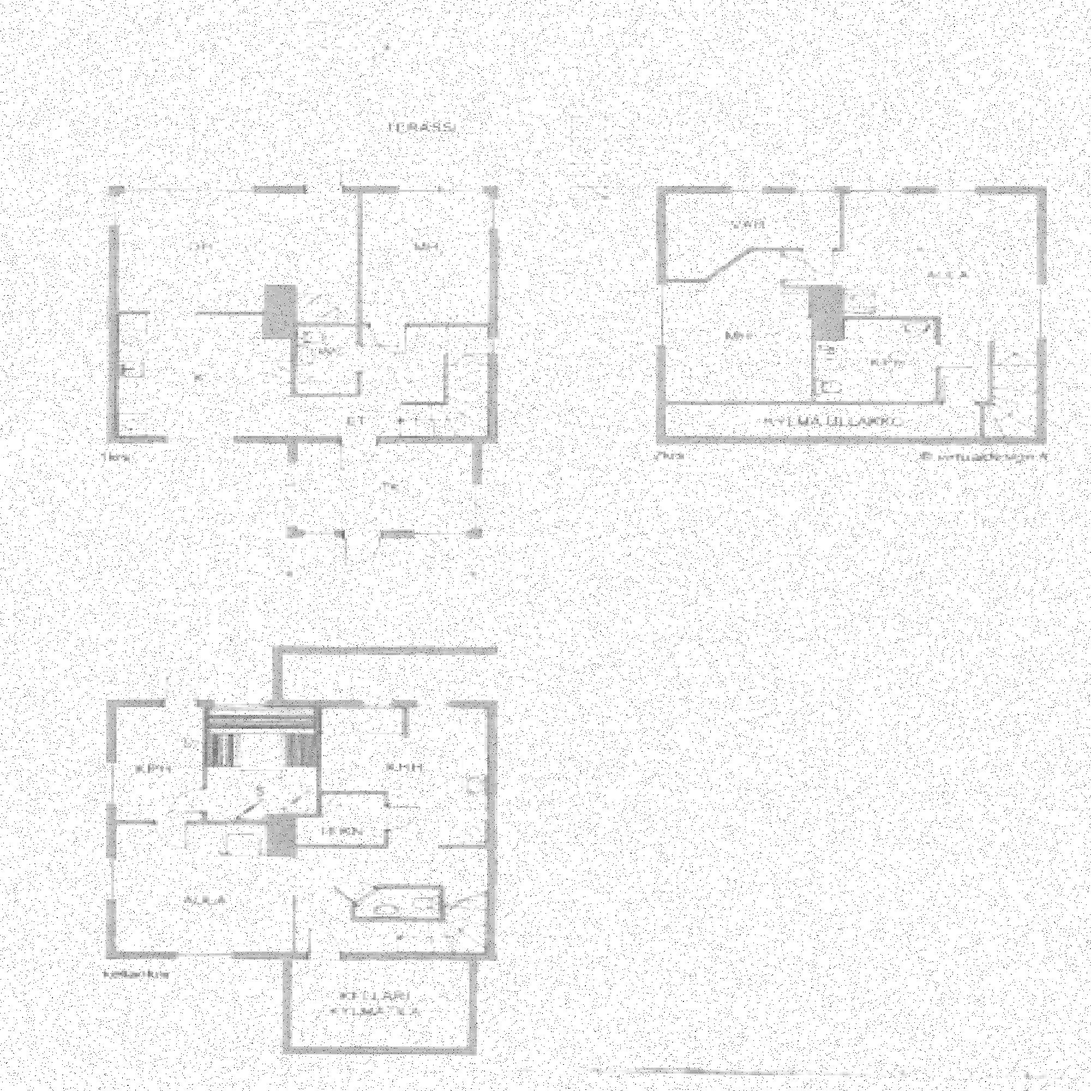wall: (106, 184, 501, 194), (103, 698, 117, 960), (103, 698, 496, 707), (488, 184, 501, 444), (655, 186, 1048, 194), (655, 436, 1048, 444), (106, 184, 118, 443), (485, 698, 496, 960), (1037, 186, 1048, 444), (655, 186, 666, 444), (655, 399, 995, 406), (271, 644, 496, 654), (809, 285, 845, 340), (704, 246, 754, 282), (280, 1046, 478, 1055), (280, 951, 478, 960), (285, 530, 483, 539), (285, 435, 483, 444), (106, 434, 297, 443), (103, 951, 291, 960), (261, 285, 292, 338), (353, 184, 364, 321), (259, 818, 306, 849), (103, 818, 298, 825), (470, 435, 483, 539), (285, 435, 297, 539), (467, 951, 478, 1055), (280, 951, 291, 1055), (201, 698, 208, 825), (353, 321, 501, 327), (349, 883, 382, 908), (272, 644, 284, 707), (267, 843, 391, 849), (808, 314, 816, 406), (315, 698, 323, 788), (353, 321, 362, 399), (808, 314, 939, 319), (932, 314, 939, 406), (290, 321, 298, 399), (986, 340, 995, 406), (289, 894, 297, 960), (383, 788, 391, 849), (349, 916, 445, 921), (266, 842, 297, 857), (836, 186, 843, 252), (315, 788, 391, 794), (290, 393, 362, 399), (290, 321, 353, 327), (437, 843, 496, 849), (779, 246, 787, 290), (378, 883, 445, 888), (194, 309, 261, 314), (267, 812, 322, 818), (779, 285, 845, 290), (403, 698, 411, 738), (976, 399, 983, 444), (290, 285, 298, 321), (787, 247, 843, 252), (470, 435, 501, 444), (654, 277, 709, 282), (438, 883, 445, 921), (467, 951, 496, 960), (440, 353, 445, 403), (106, 309, 152, 314), (261, 285, 298, 291), (261, 332, 298, 338), (808, 334, 845, 340), (315, 788, 322, 818), (749, 247, 787, 252), (399, 400, 445, 403), (349, 904, 355, 921)
